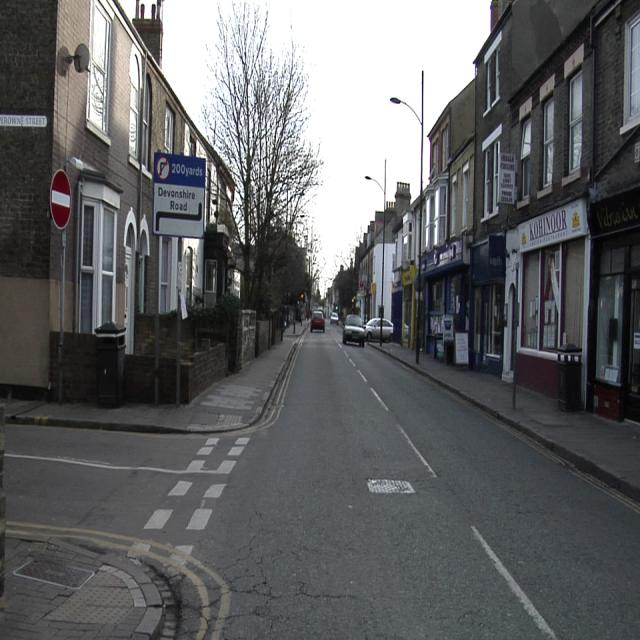Building: (333, 0, 638, 420)
Car: (342, 316, 364, 346), (366, 318, 392, 343), (310, 310, 325, 331)
Road: (4, 328, 634, 633)
Tree: (199, 1, 320, 310)
